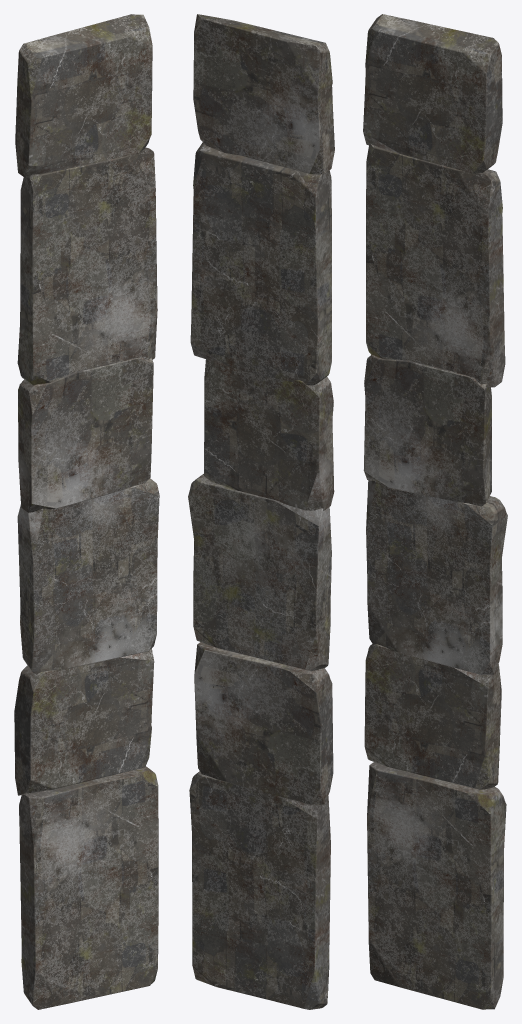
File: SM_Castle_SeamHider_02.fbx
The picture shows the model from 3 angles, left to right: view 1: azimuth 30°, elevation 25°; view 2: azimuth 150°, elevation 25°; view 3: azimuth 330°, elevation 25°; orthographic projection.
Parts seen in each view (by area): view 1: SM_Castle_SeamHider_02_LOD0; view 2: SM_Castle_SeamHider_02_LOD0; view 3: SM_Castle_SeamHider_02_LOD0.
Part boxes in pixels (left/top/right/bottom): SM_Castle_SeamHider_02_LOD0: left=14, top=14, right=159, bottom=1009; SM_Castle_SeamHider_02_LOD0: left=188, top=14, right=334, bottom=1009; SM_Castle_SeamHider_02_LOD0: left=363, top=14, right=507, bottom=1009.
Size of the model in its own units: 57.45 by 12.32 by 402.
